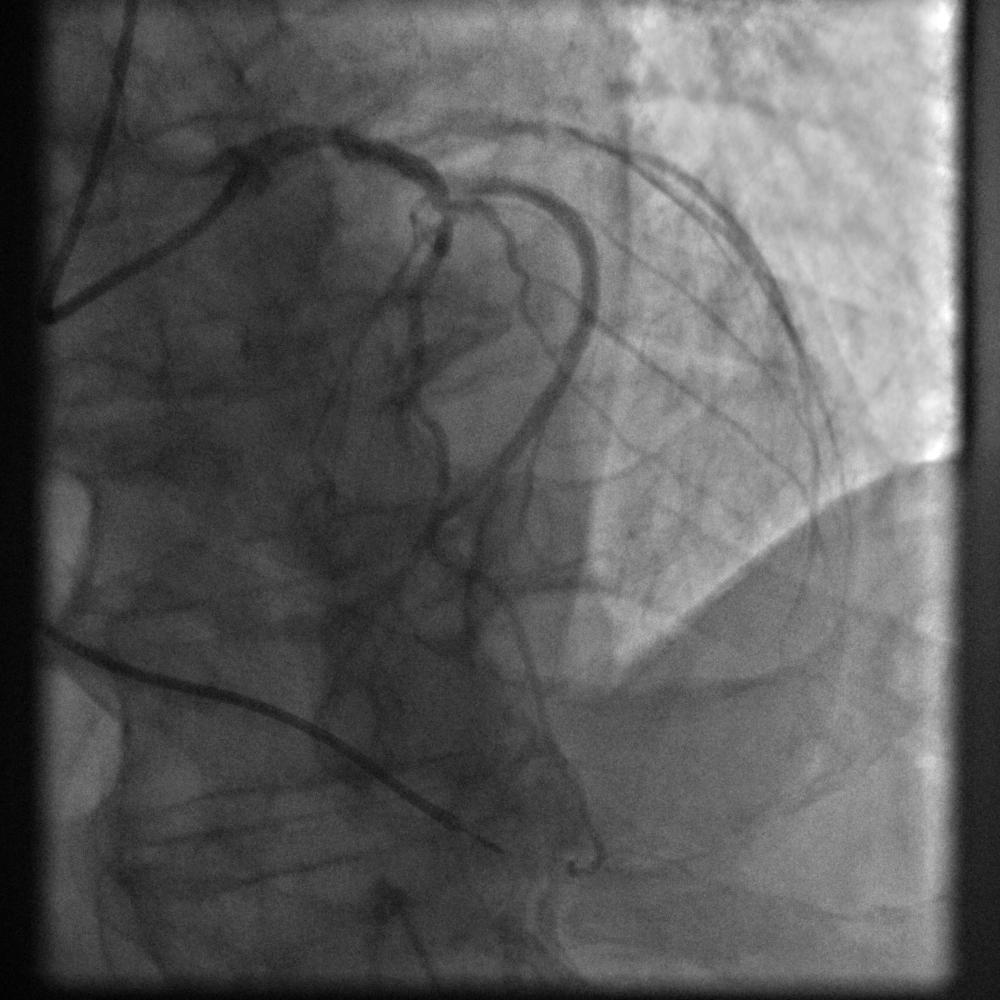Stenosis: (420, 185, 490, 226)
